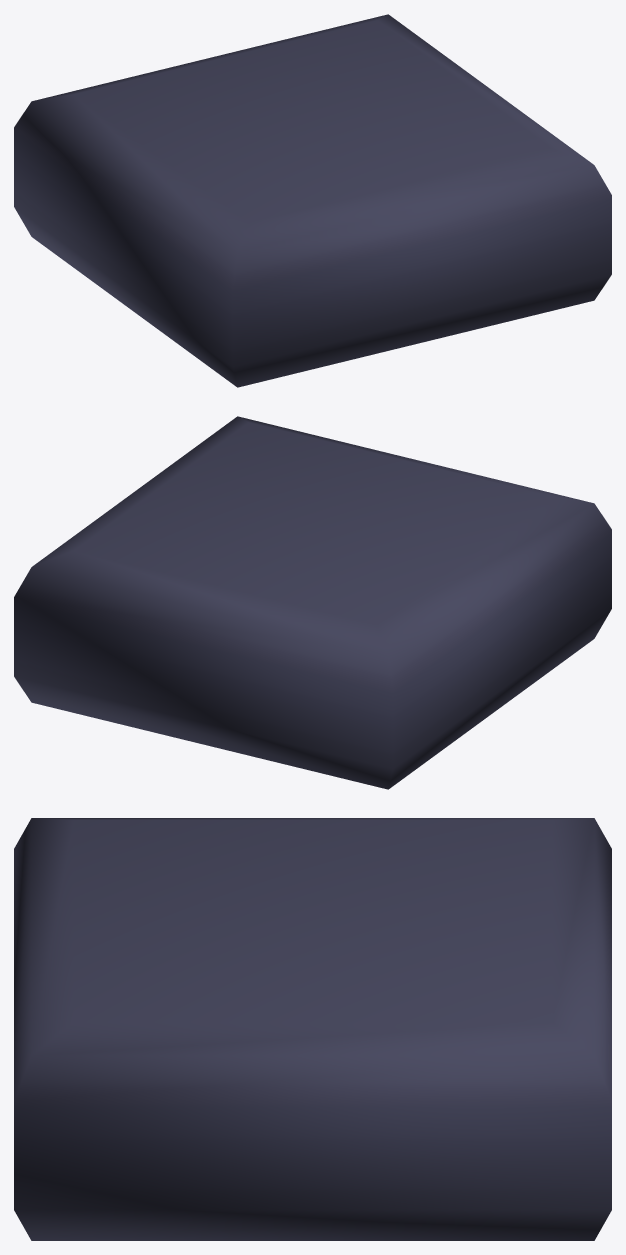
The model's file is kenney-conveyor-conveyor-cross.glb.
3 renders of one model, top to bottom at view 1: azimuth 30°, elevation 25°; view 2: azimuth 150°, elevation 25°; view 3: azimuth 270°, elevation 25°, orthographic. The views are drawn at different scales.
Visible parts, largest first — view 1: conveyor-cross; view 2: conveyor-cross; view 3: conveyor-cross.
Part boxes in pixels (x1,y1,x2,y2): conveyor-cross: (14, 14, 611, 387); conveyor-cross: (14, 416, 611, 789); conveyor-cross: (14, 818, 611, 1240).
Bounding box in the file's own units: 1 × 0.3999 × 1.
Materials: 1 (1 with a texture image).
